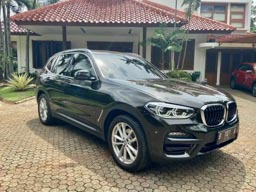plat: (218, 125, 238, 143)
